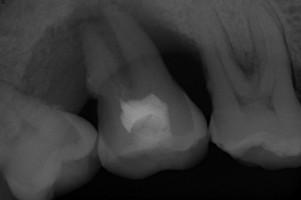Dental Caries: (17, 0, 199, 114)
Endo-Periodontal Lesion: (231, 45, 258, 77)
